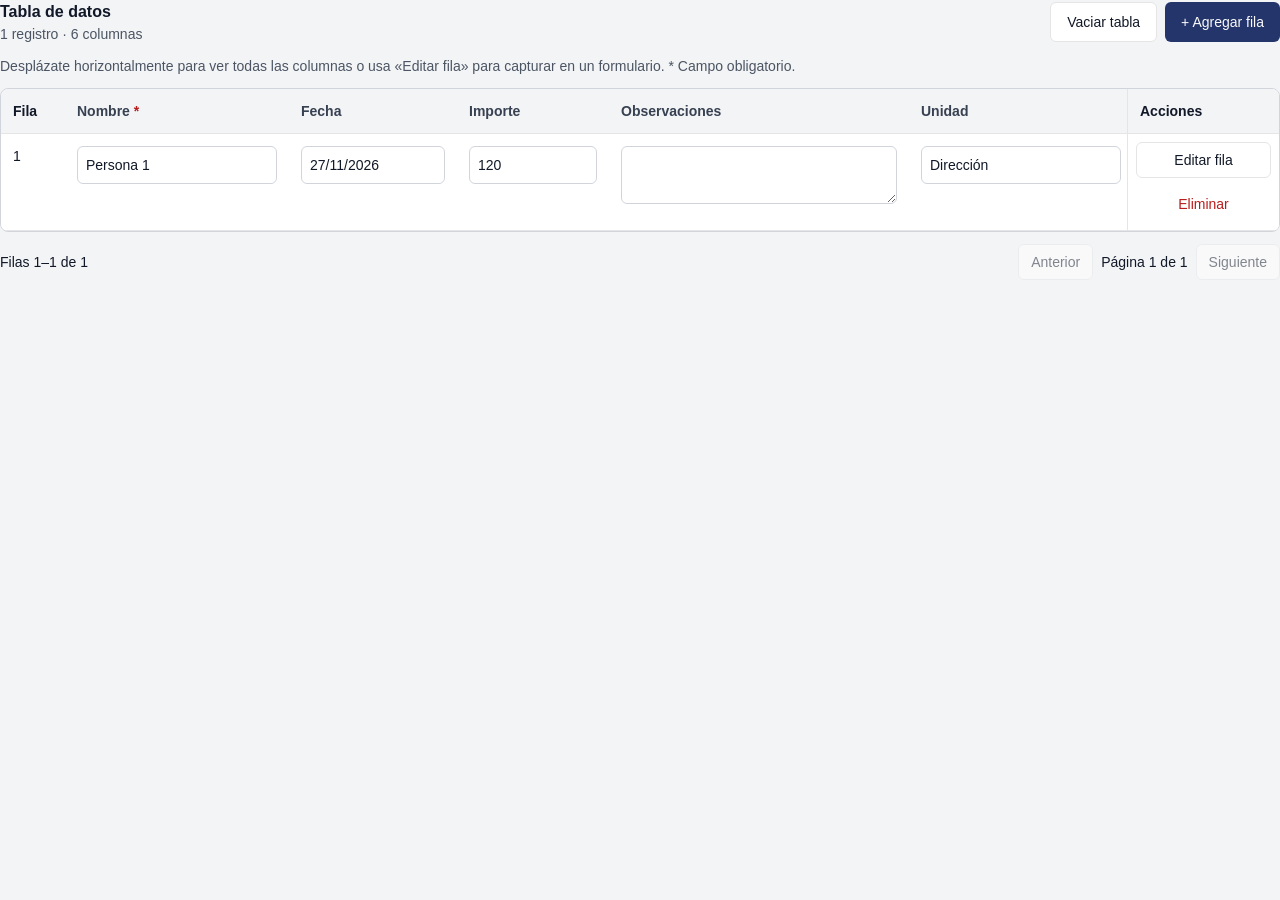
Test case: asocia los errores al campo y permite corregirlos en el formulario
Click the button with aria-label "Editar fila 1" at (1204, 160), box [1136,142,1271,178]
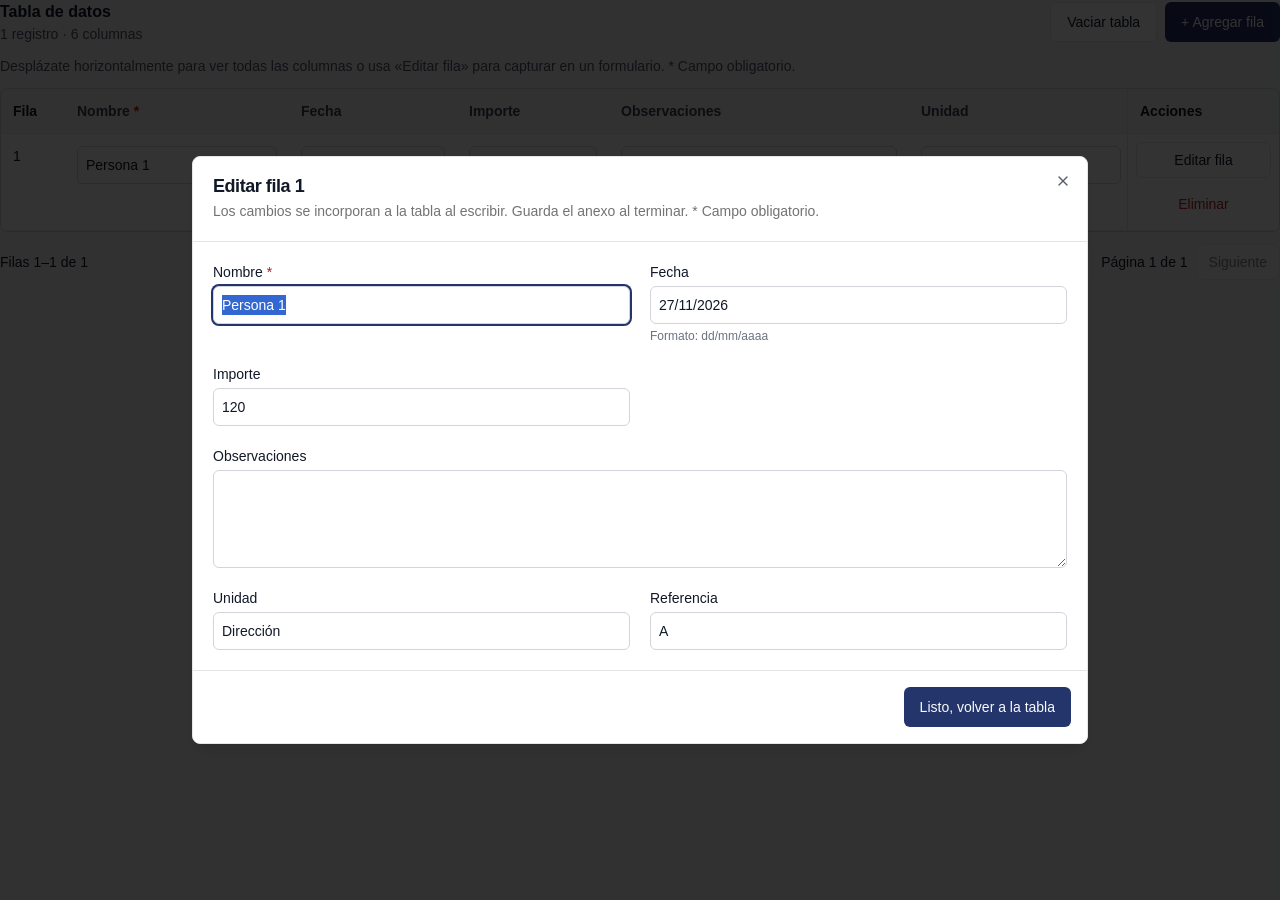
Clear the field named "Nombre, fila 1" at (422, 305), box [213,286,630,324]
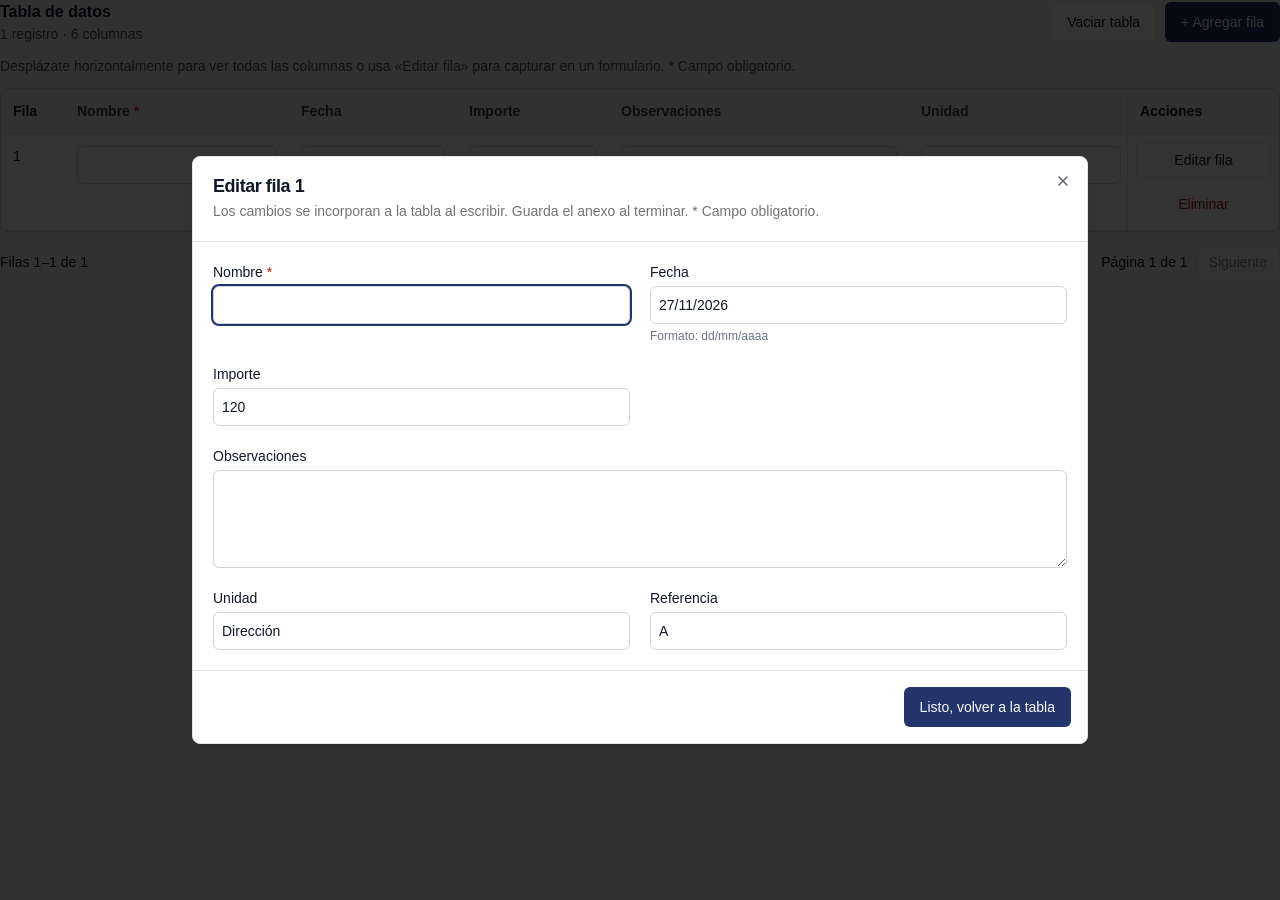
Leave the field named "Nombre, fila 1", box [213,286,630,324]
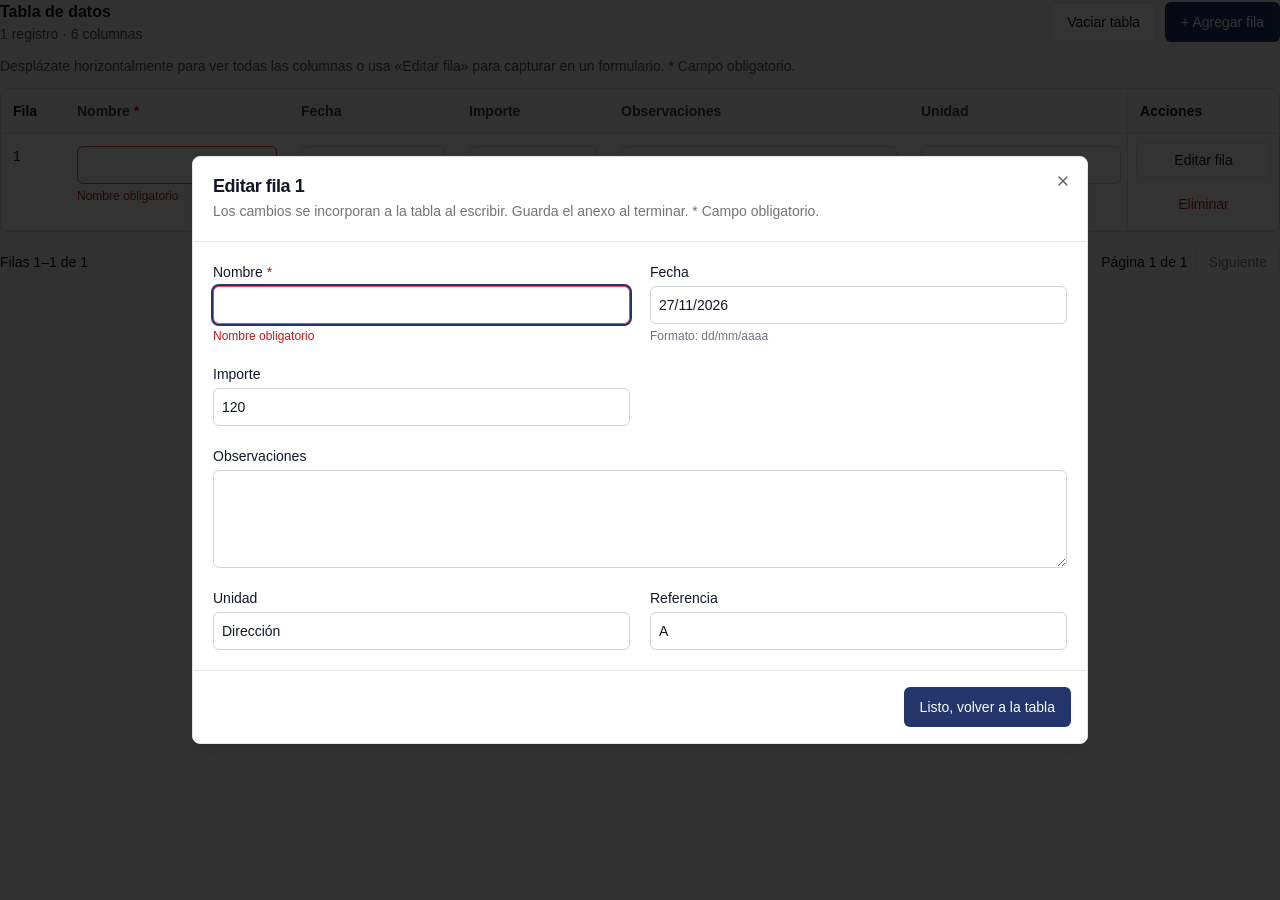
Type "Corregido" into the field named "Nombre, fila 1" at (422, 305), box [213,286,630,324]
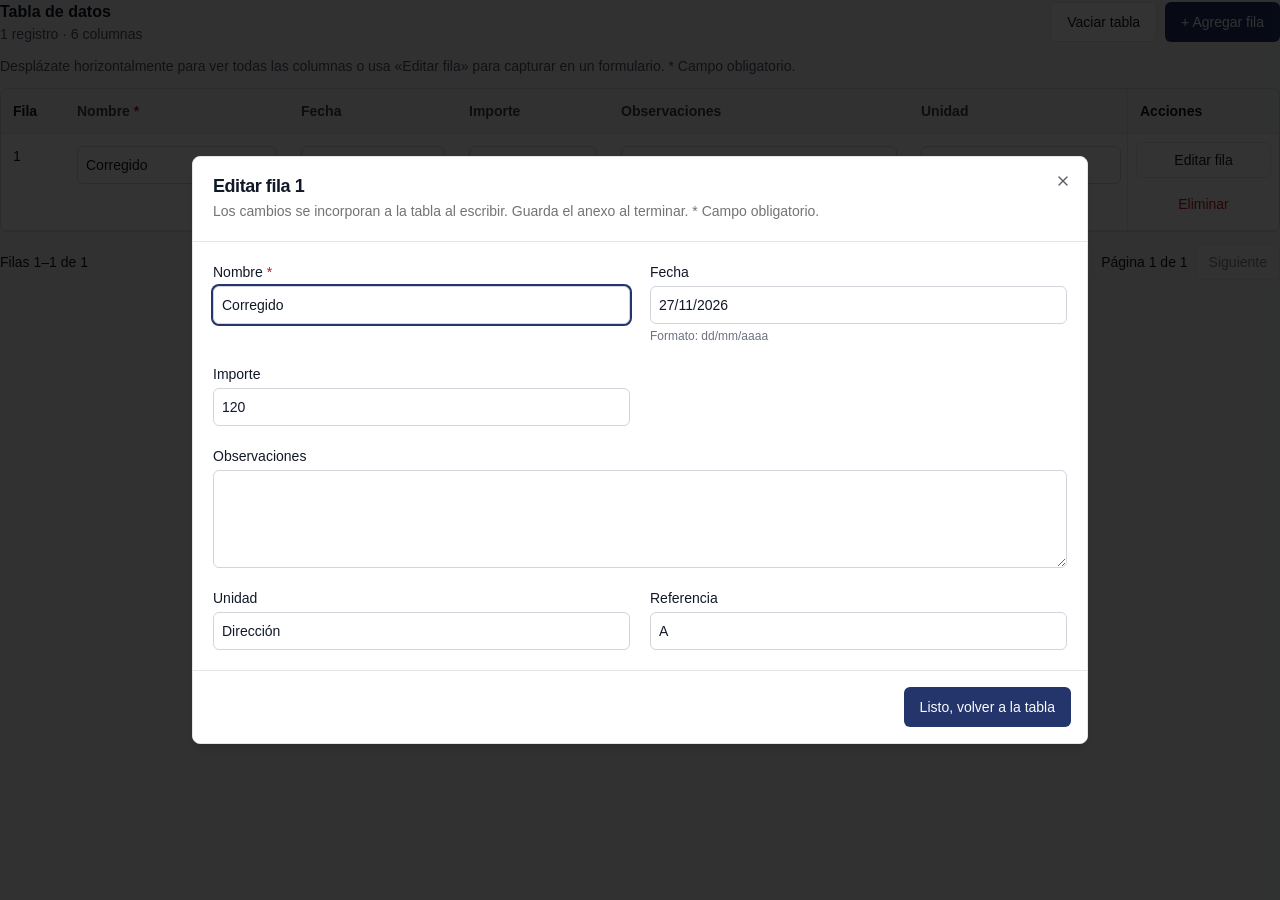
Expected: the field named "Nombre, fila 1" is not marked as invalid, [213,286,630,324]
